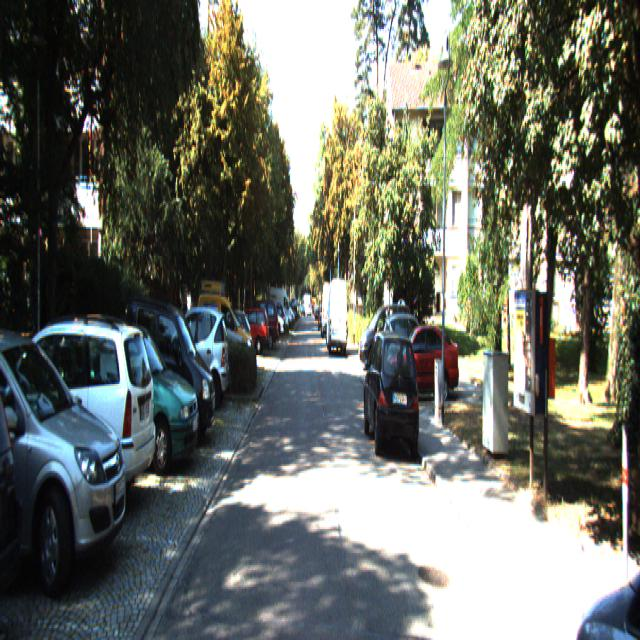Car: (0, 320, 131, 595), (0, 307, 158, 514), (80, 312, 201, 473), (119, 295, 215, 447), (362, 326, 422, 459), (159, 304, 230, 413), (386, 320, 460, 399), (197, 273, 254, 372), (226, 305, 270, 355), (239, 298, 278, 351), (327, 278, 348, 352), (322, 279, 336, 335)
